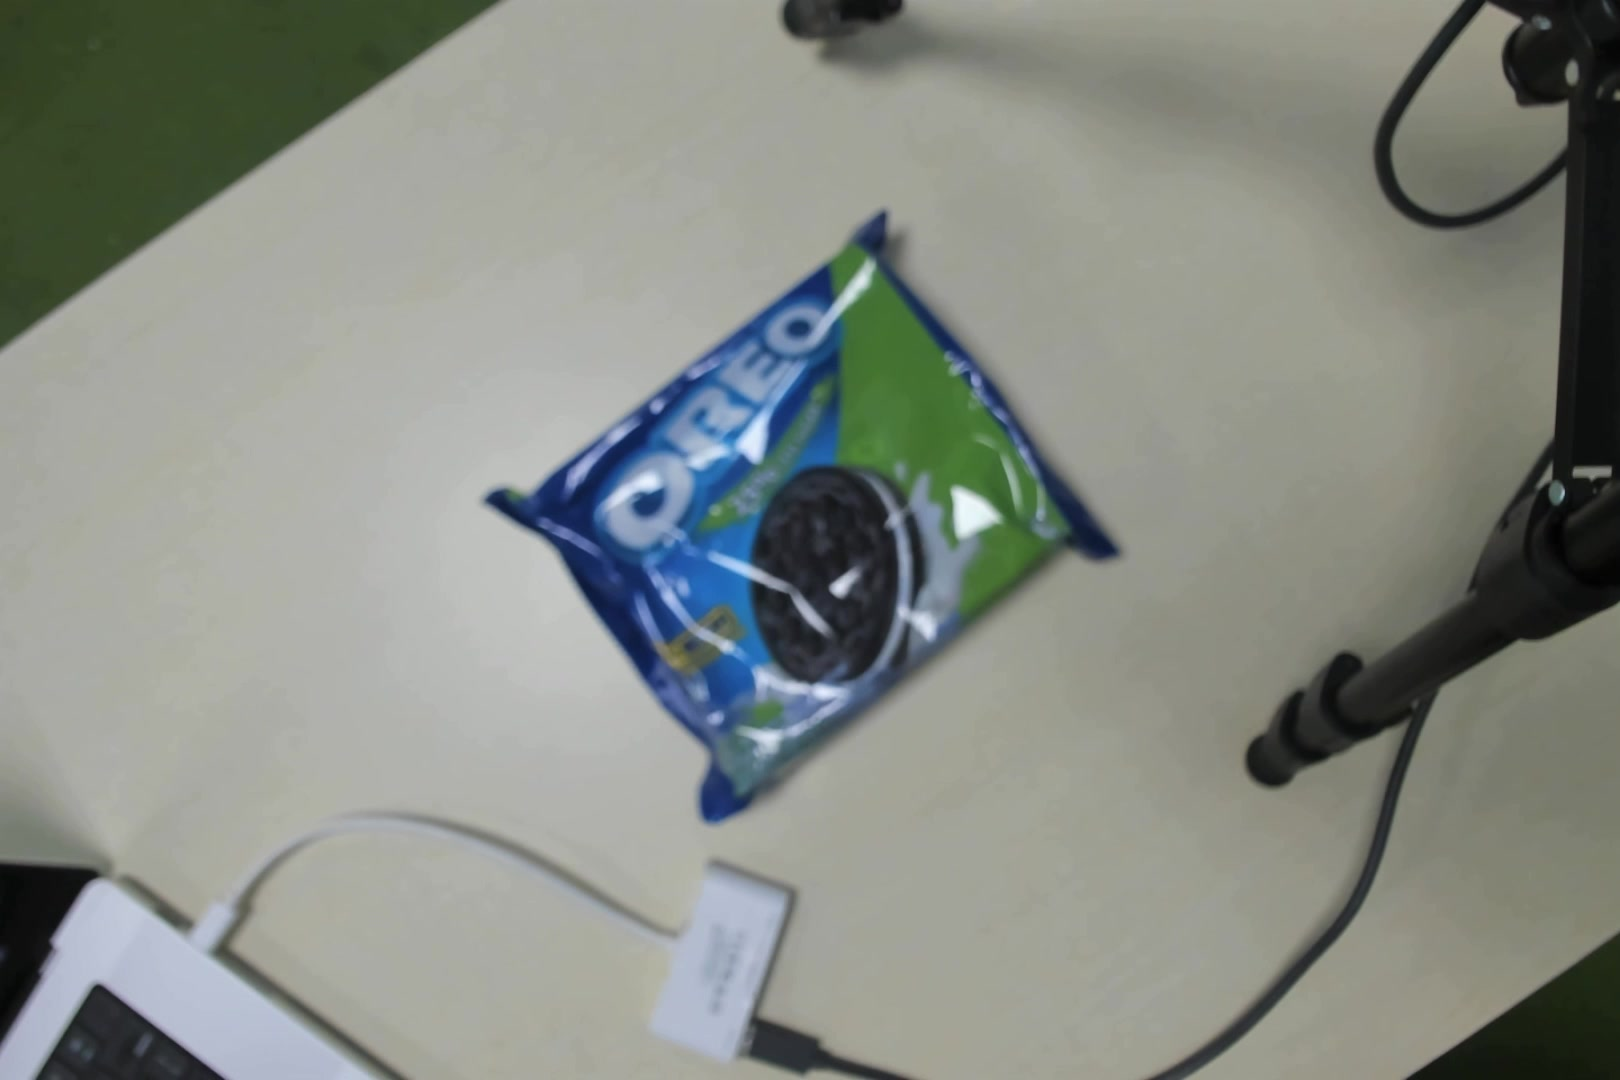SweetsChocolatesOthers_200-299g_Halal_NonHealthy: (589, 270, 1008, 762)
